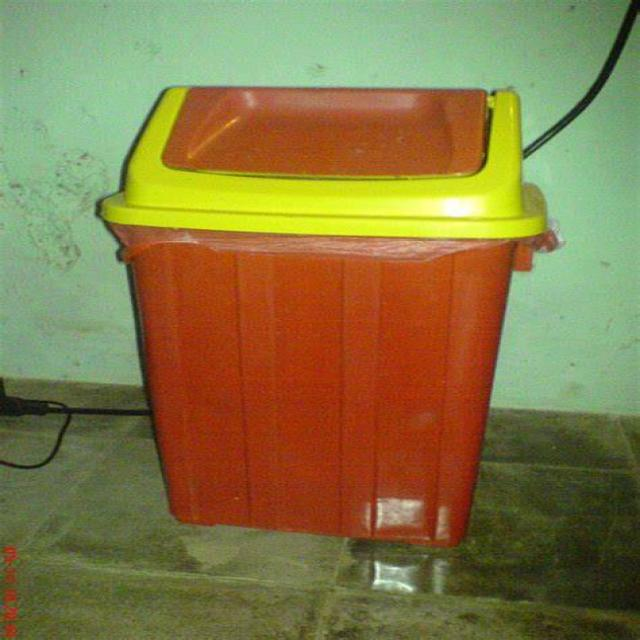Dustbin: (120, 62, 558, 561)
